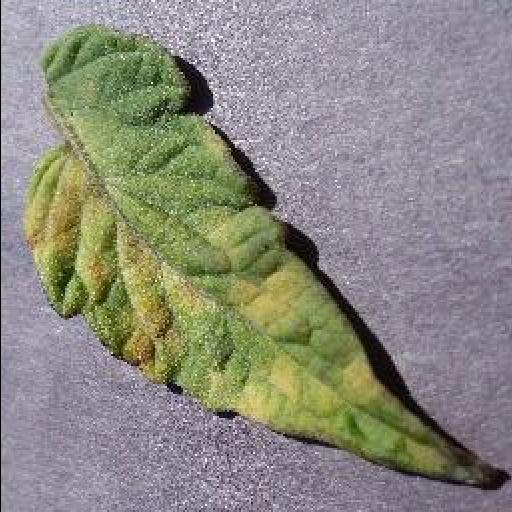disease_tomato: (21, 23, 511, 488)
